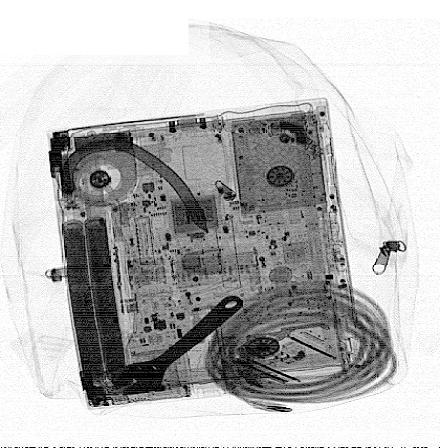Wrench: (110, 293, 246, 397)
